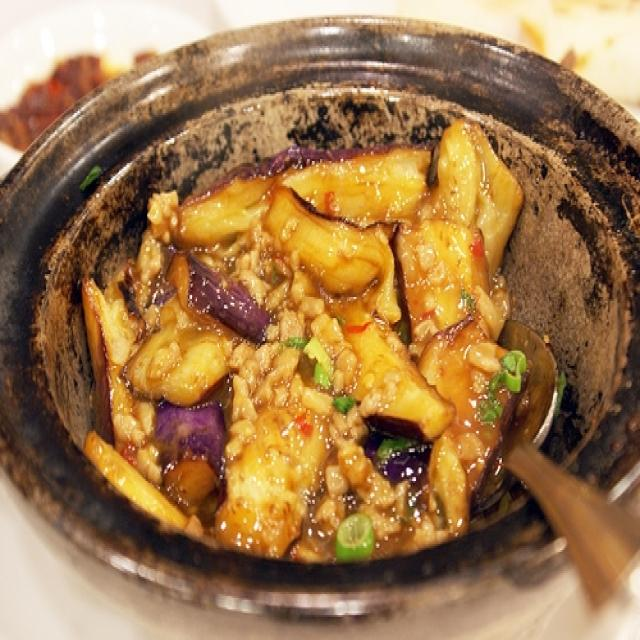鸡蛋料理: (32, 58, 617, 610)
